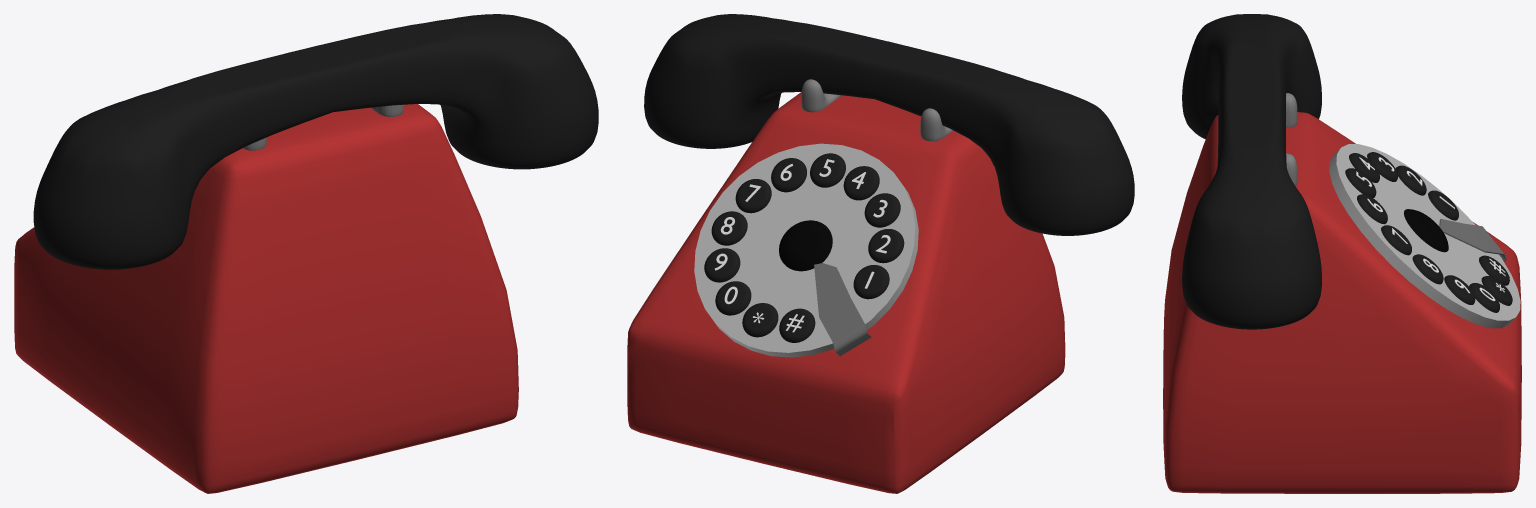
The model's file is RotaryPhone (2).dae.
3 views of the same model, side by side, from view 1: azimuth 30°, elevation 25°; view 2: azimuth 150°, elevation 25°; view 3: azimuth 270°, elevation 25° (orthographic). The views are drawn at different scales.
Parts seen in each view (by area): view 1: Base, Circle; view 2: Base, Circle, Dial Plate, Cylinder; view 3: Base, Circle, Dial Plate, Cylinder.
Boxes of the visible parts, <box> form: Base: <box>14,104,518,493</box>; Circle: <box>33,14,598,269</box>; Base: <box>627,79,1065,493</box>; Circle: <box>644,14,1134,235</box>; Dial Plate: <box>694,143,918,357</box>; Cylinder: <box>704,153,904,342</box>; Base: <box>1163,93,1521,493</box>; Circle: <box>1182,14,1321,329</box>; Dial Plate: <box>1329,144,1520,328</box>; Cylinder: <box>1345,152,1512,312</box>.
Bounding box in the file's own units: 3.16 × 2 × 2.06.
